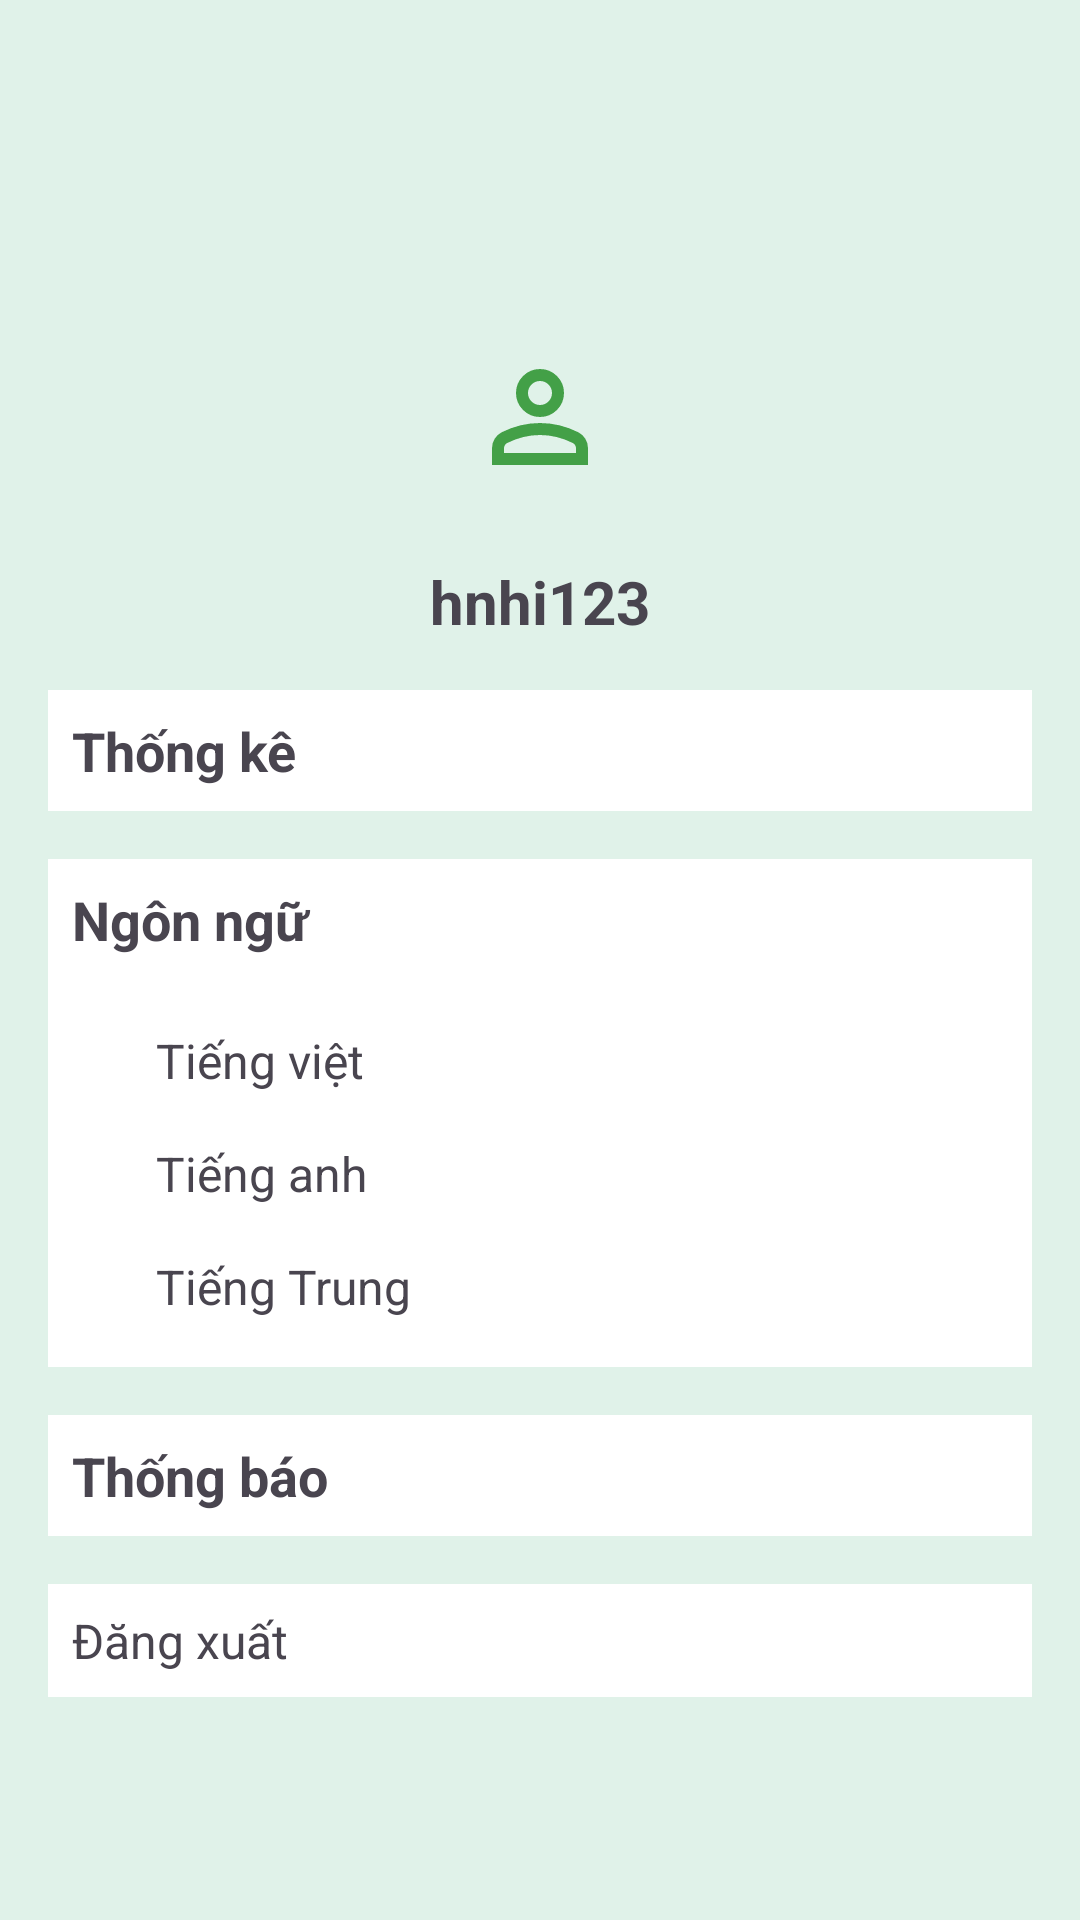

Point at icon controls on the screen. Image size 1080px×1920px, points as point (x, y).
user: point (540, 417)
